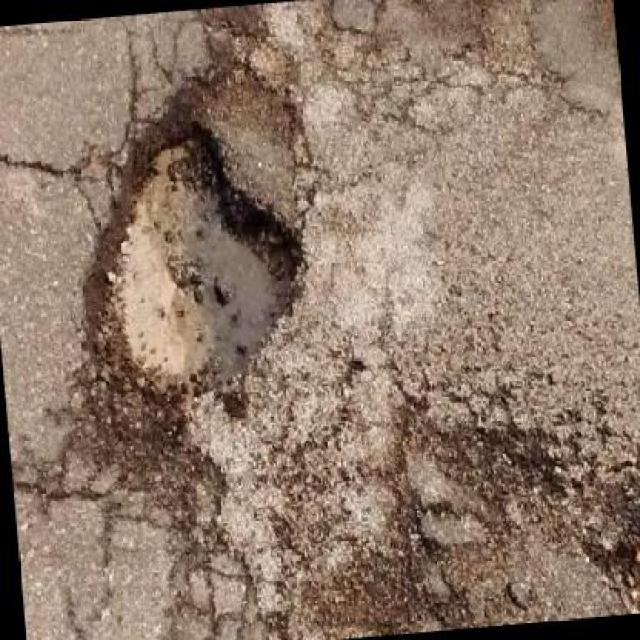pothole1: (59, 88, 328, 440), (603, 518, 639, 616)
